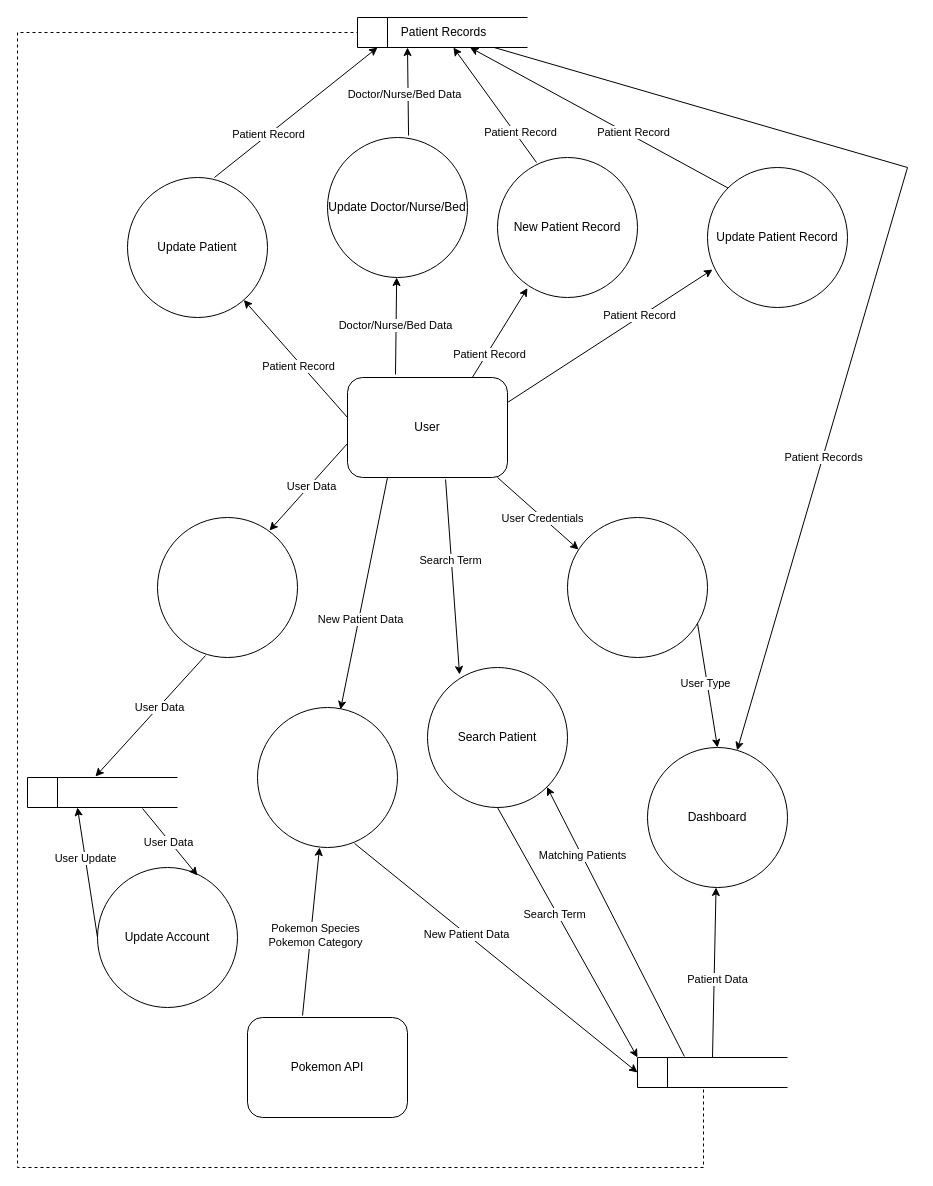
Some shapes in this 933 by 1186 pixel diagram are drawn without their labels. The shapes that lost their labels are listed below. From the top down, each one's centre as x and y in pixels, then its label:
[227,587]: Create Account
[637,587]: Login
[102,792]: Users
[327,777]: Add New Patient
[712,1072]: Patients
